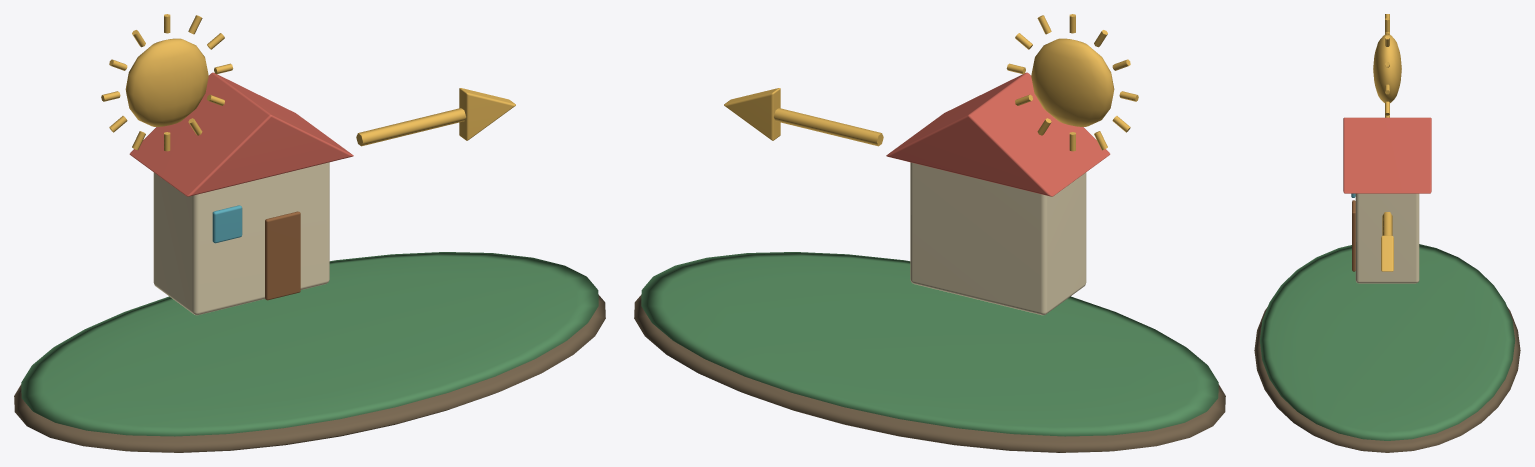
File: outside-at-dusk.glb
The picture shows the model from 3 angles, left to right: view 1: azimuth 30°, elevation 25°; view 2: azimuth 150°, elevation 25°; view 3: azimuth 270°, elevation 25°; orthographic projection. The views are drawn at different scales.
Parts seen in each view (by area): view 1: outside-at-dusk_surface_01, outside-at-dusk_surface_03, outside-at-dusk_surface_04, outside-at-dusk_surface_00, outside-at-dusk_surface_02, outside-at-dusk_surface_05, outside-at-dusk_surface_06; view 2: outside-at-dusk_surface_01, outside-at-dusk_surface_03, outside-at-dusk_surface_04, outside-at-dusk_surface_00, outside-at-dusk_surface_02; view 3: outside-at-dusk_surface_01, outside-at-dusk_surface_04, outside-at-dusk_surface_03, outside-at-dusk_surface_00, outside-at-dusk_surface_02, outside-at-dusk_surface_05.
Boxes of the visible parts, x1,y1,x2,y2 form: outside-at-dusk_surface_01: (21,252,598,436); outside-at-dusk_surface_03: (153,162,329,315); outside-at-dusk_surface_04: (129,72,353,196); outside-at-dusk_surface_00: (14,294,605,452); outside-at-dusk_surface_02: (101,14,515,151); outside-at-dusk_surface_05: (265,211,300,300); outside-at-dusk_surface_06: (212,205,242,243); outside-at-dusk_surface_01: (641,252,1218,436); outside-at-dusk_surface_03: (910,162,1086,315); outside-at-dusk_surface_04: (886,72,1110,196); outside-at-dusk_surface_00: (634,294,1225,452); outside-at-dusk_surface_02: (724,14,1138,151); outside-at-dusk_surface_01: (1259,244,1515,440); outside-at-dusk_surface_04: (1343,117,1431,193); outside-at-dusk_surface_03: (1355,193,1419,283); outside-at-dusk_surface_00: (1254,307,1520,452); outside-at-dusk_surface_02: (1373,14,1401,271); outside-at-dusk_surface_05: (1352,200,1355,271).
Bounding box in the file's own units: 4.56 × 3.03 × 2.5.
